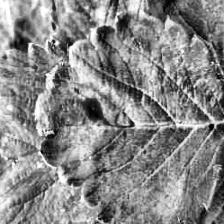Leaf Spot: (34, 8, 224, 224), (145, 0, 224, 122), (50, 0, 152, 54), (178, 118, 224, 224)
